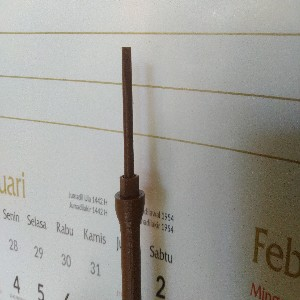obeng: (114, 45, 145, 300)
